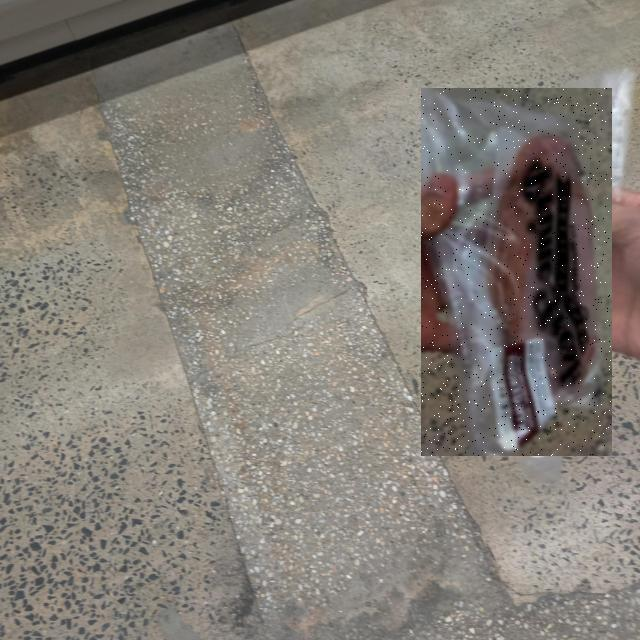Meat: (421, 88, 612, 456)
